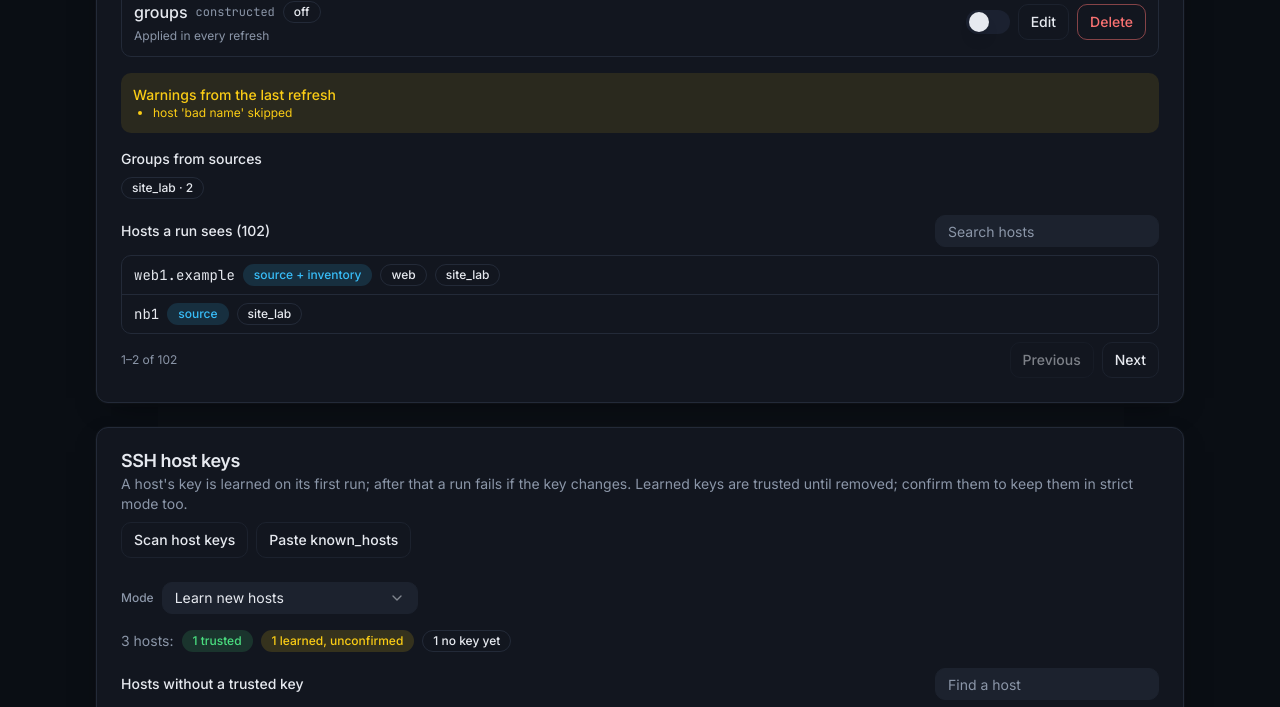
Scenario: dynamic inventory sources › shows sources, the last refresh, warnings, groups and the merged hosts
(page scrolled)
Expected: the text "off" is shown, [283,1,321,23]
Expected: the list item "host 'bad name' skipped" is shown, [153,105,292,120]
Click the button "Next".
click(1130, 360)  # box [1102,342,1159,378]
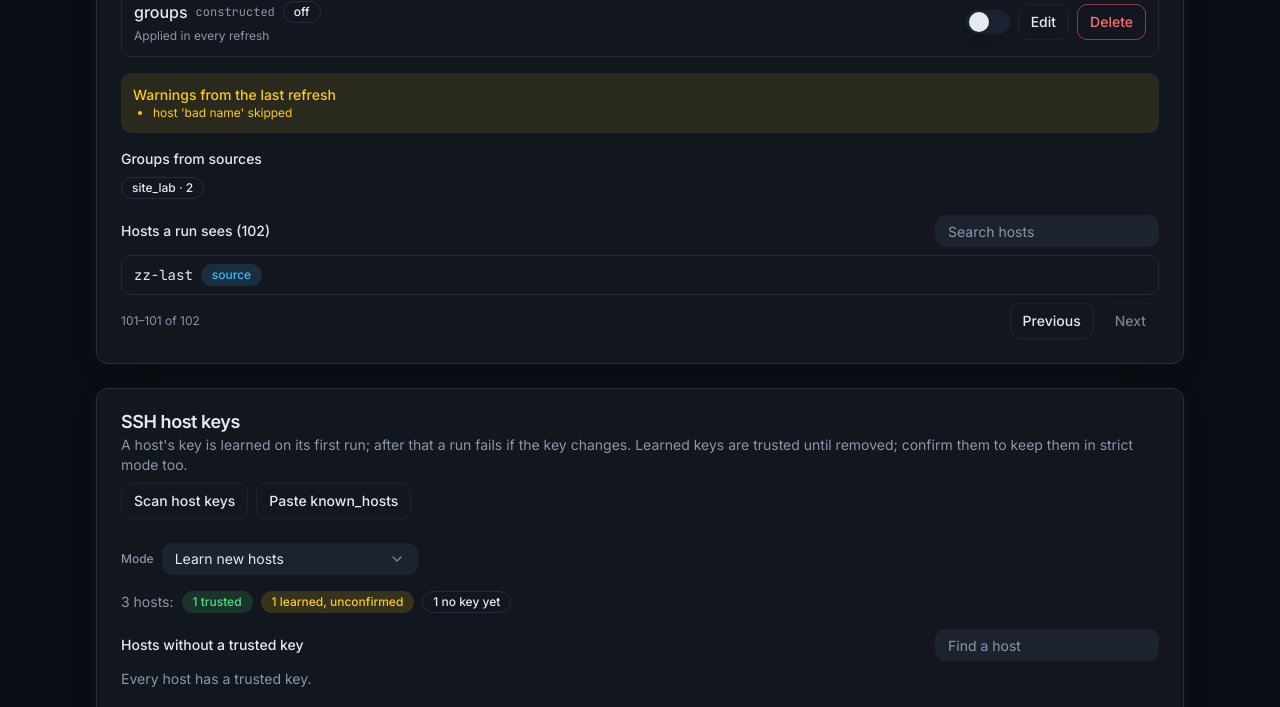
Expected: the text "zz-last" is shown, [134,265,193,285]
Expected: the text "101–101 of 102" is shown, [121,313,200,329]
Expected: the button "Next" is disabled, [1102,303,1159,339]
Type "zzz" into the field labelled "Search hosts".
click(1047, 231); type("zzz")  # box [935,215,1159,247]
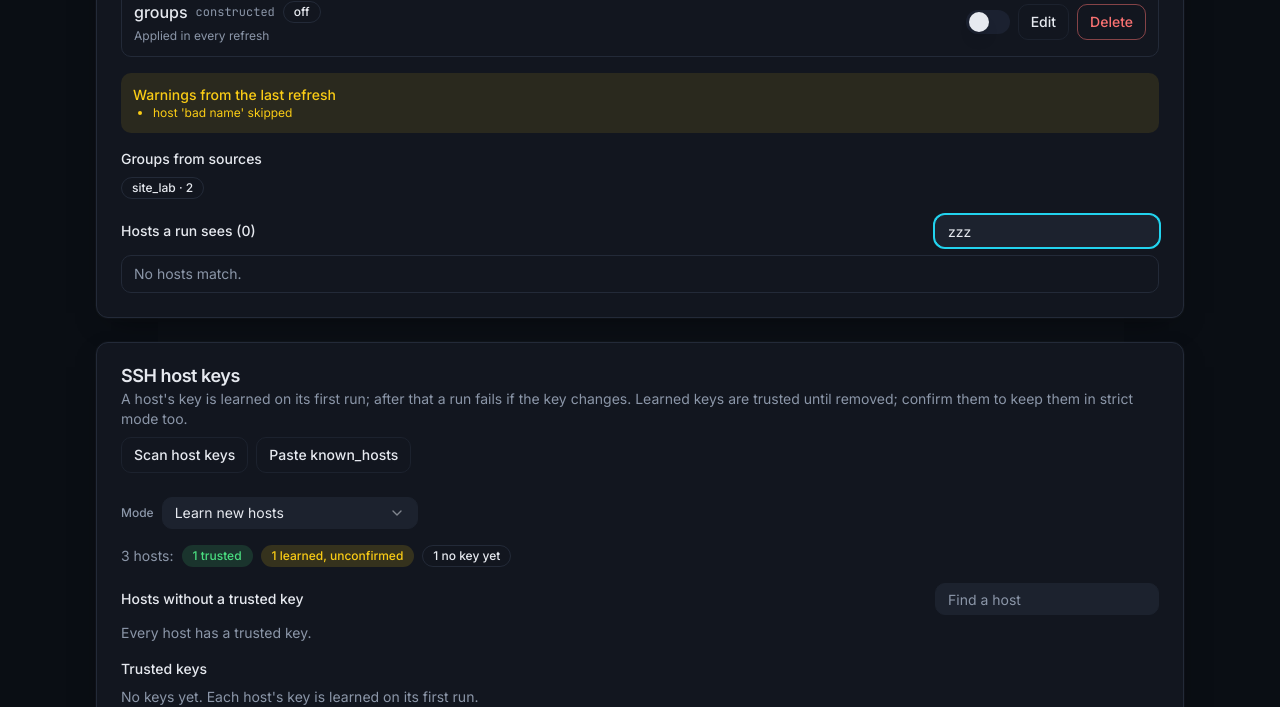
Expected: the text "No hosts match." is shown, [134,265,242,282]
